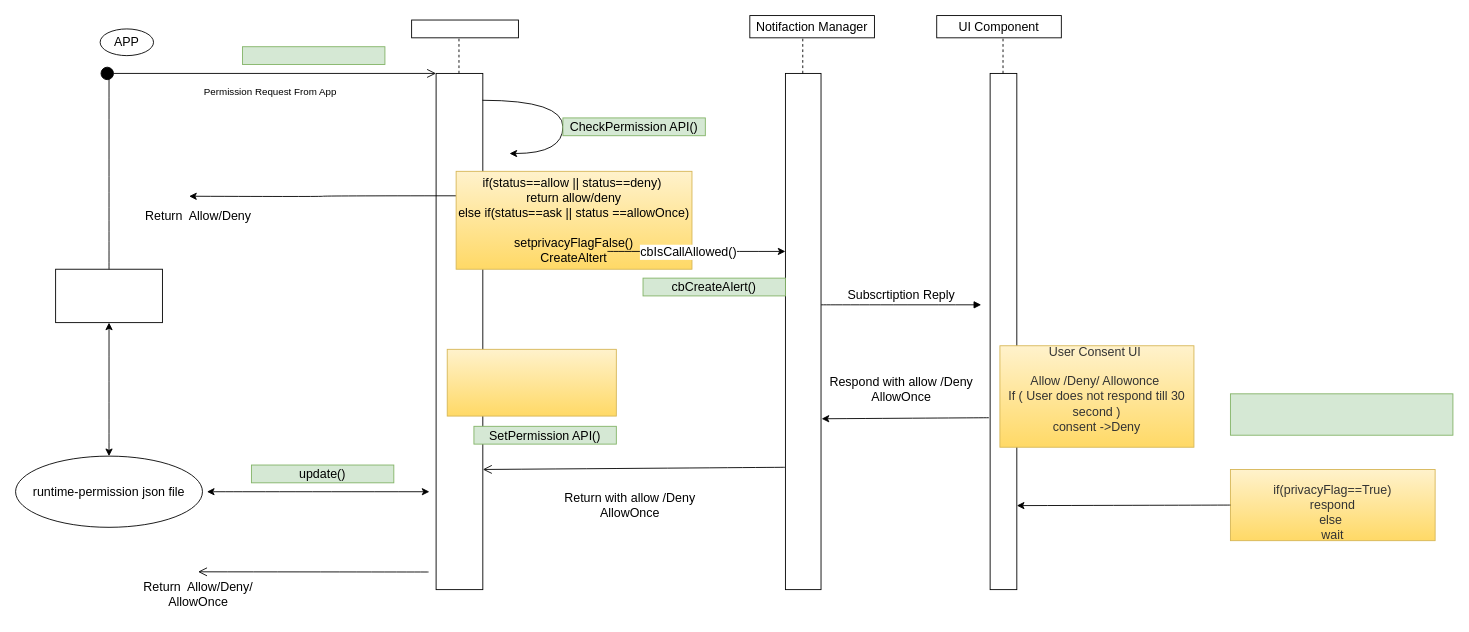
This 1469x632 diagram has some shape labels left out. The centre of each missing label's shape, as x and y in pixels:
"handleUserAlertResponseTimeout" belongs at (1341,414).
"ls-hubd" belongs at (108,295).
"PPM" belongs at (464,28).
"RequestPermission API()" belongs at (313,55).
"Set Permission Allow/Deny/ \AllowOnce setPrivacyFlagTrue()" belongs at (531,382).
